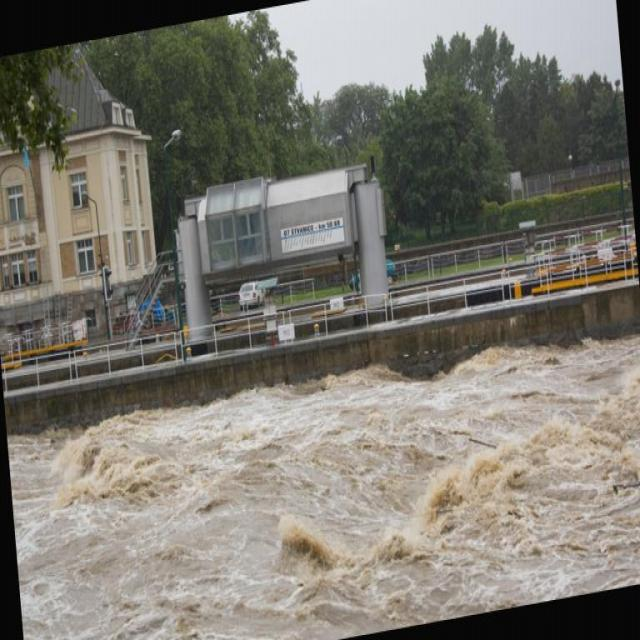flood: (6, 304, 639, 639)
